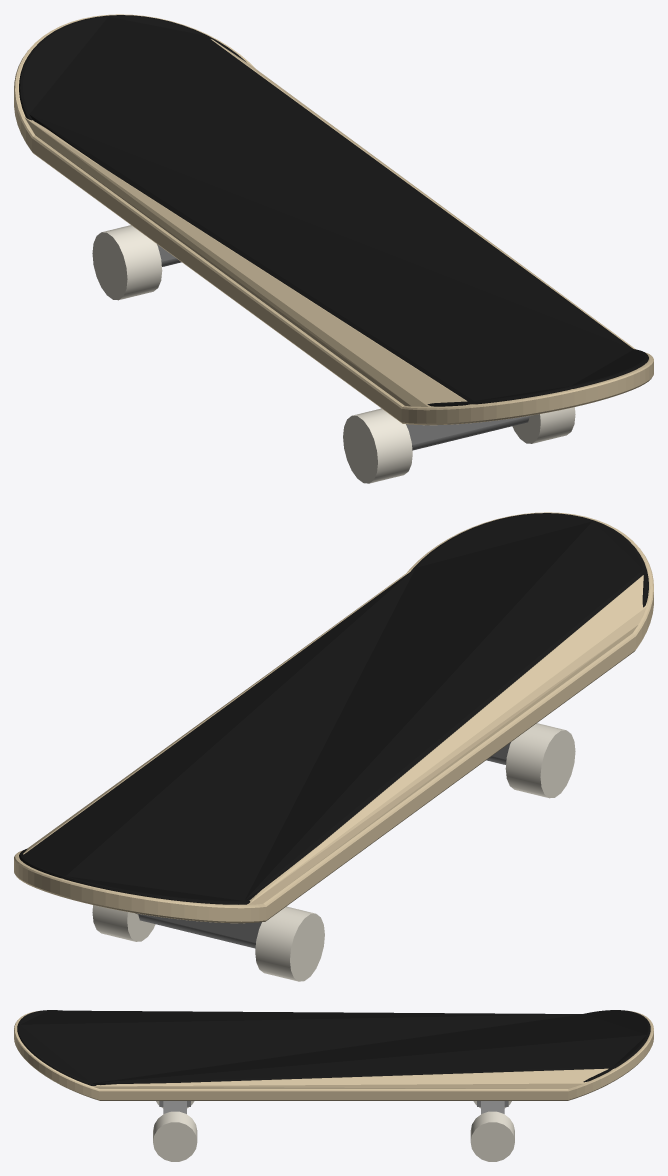
File: skateboard.glb
3 renders of one model, top to bottom at view 1: azimuth 30°, elevation 25°; view 2: azimuth 150°, elevation 25°; view 3: azimuth 270°, elevation 25°, orthographic. The views are drawn at different scales.
Parts seen in each view (by area): view 1: Skateboard; view 2: Skateboard; view 3: Skateboard.
Boxes of the visible parts, x1,y1,x2,y2 form: Skateboard: [14, 14, 653, 483]; Skateboard: [14, 512, 653, 981]; Skateboard: [14, 1010, 653, 1161].
Size of the model in its own units: 0.216 by 0.1439 by 0.806.
